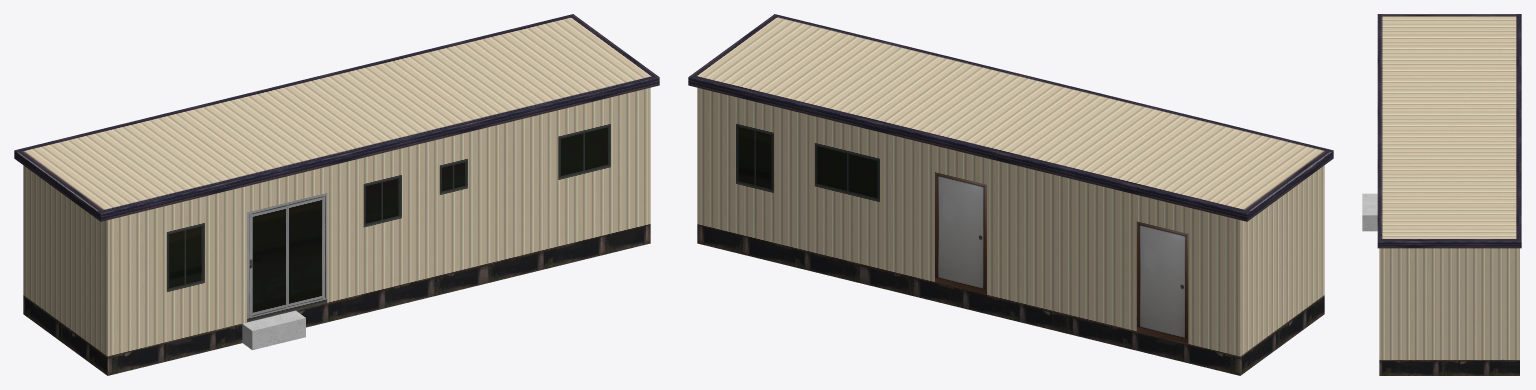
File: terminal-tiny-07-12x3-cbj_LOD00.gltf
3 renders of one model, left to right at view 1: azimuth 30°, elevation 25°; view 2: azimuth 150°, elevation 25°; view 3: azimuth 270°, elevation 25°, orthographic. The views are drawn at different scales.
Parts seen in each view (by area): view 1: yarram-00; view 2: yarram-00; view 3: yarram-00.
Part boxes in pixels (<box>): yarram-00: <box>14,14,659,375</box>; yarram-00: <box>688,14,1333,375</box>; yarram-00: <box>1362,14,1521,375</box>.
Size of the model in its own units: 12.64 by 3.57 by 3.74.
